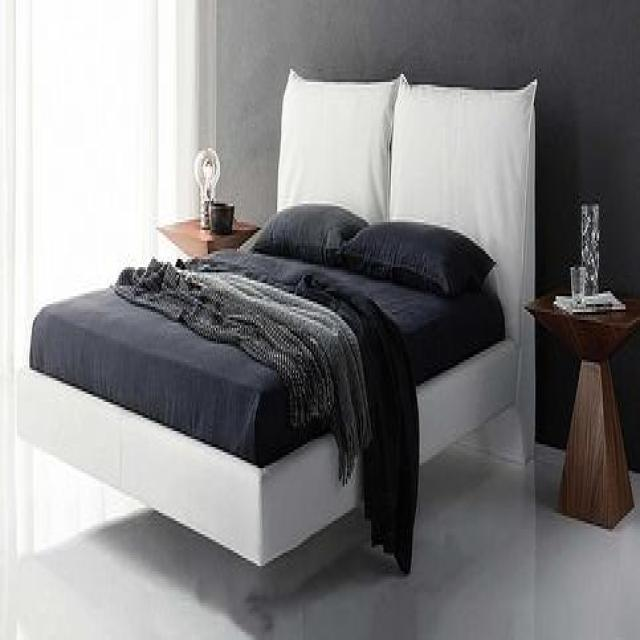bed: (16, 66, 538, 574)
table: (522, 286, 639, 529)
